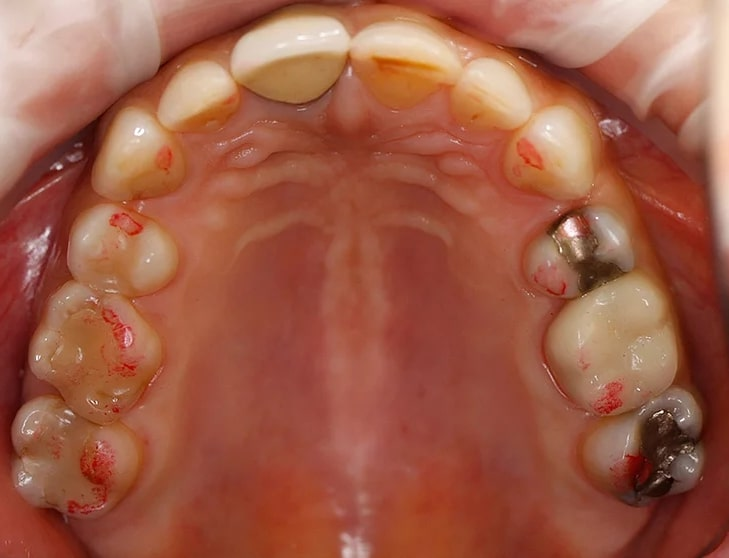UL1BC_decay: (517, 203, 625, 300)
UL1M_decay: (584, 387, 705, 501)
UL2BC_decay: (537, 270, 678, 413)
ULCI_decay: (352, 17, 455, 104)
ULC_decay: (498, 108, 599, 203)
ULLI_decay: (453, 61, 528, 133)
UR1BC_decay: (59, 199, 177, 294)
UR1M_decay: (11, 392, 137, 526)
UR2BC_decay: (31, 273, 167, 428)
URCI_healthy: (232, 13, 353, 110)
URC_decay: (92, 104, 190, 203)
URLI_decay: (151, 45, 237, 132)
